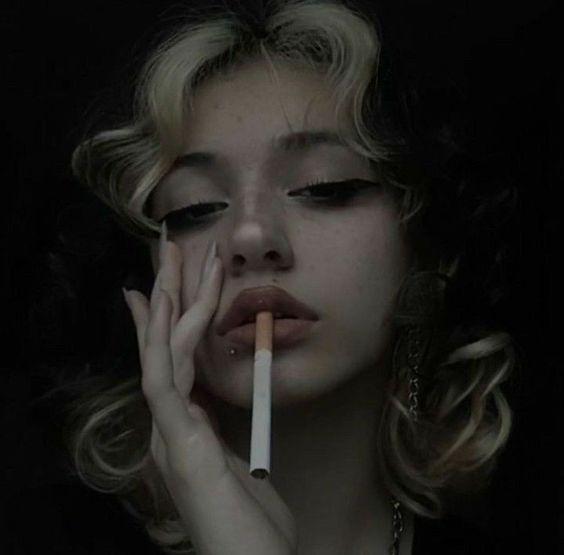cigarette: (249, 312, 273, 479)
